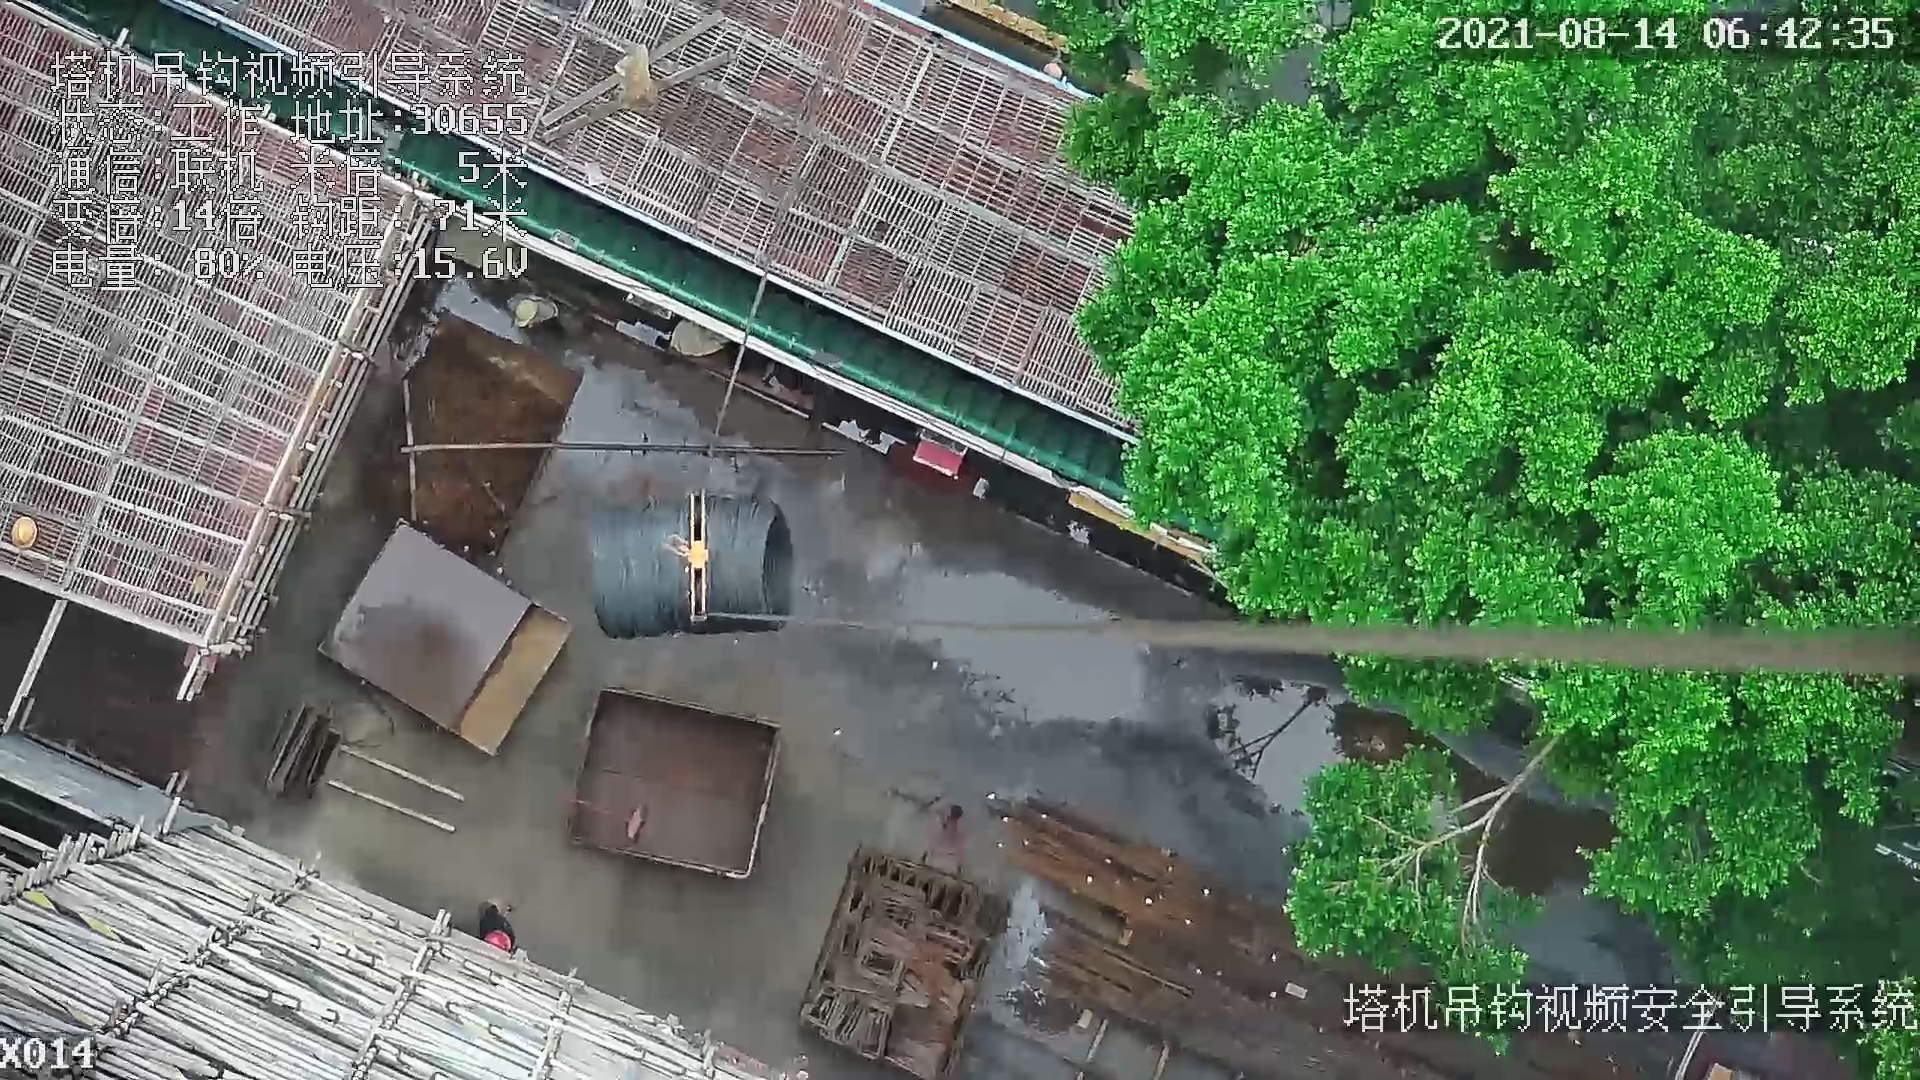helmet: (12, 515, 40, 549), (515, 297, 534, 323)
hook: (663, 487, 710, 621)
person: (471, 897, 541, 958), (504, 289, 566, 341)
